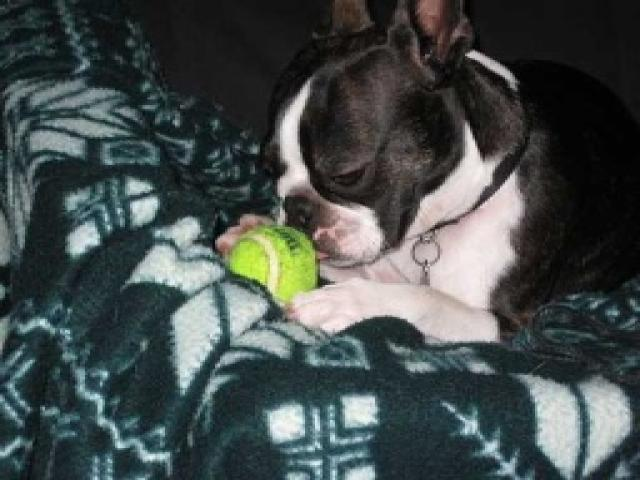tennis-ball: (226, 226, 321, 306)
